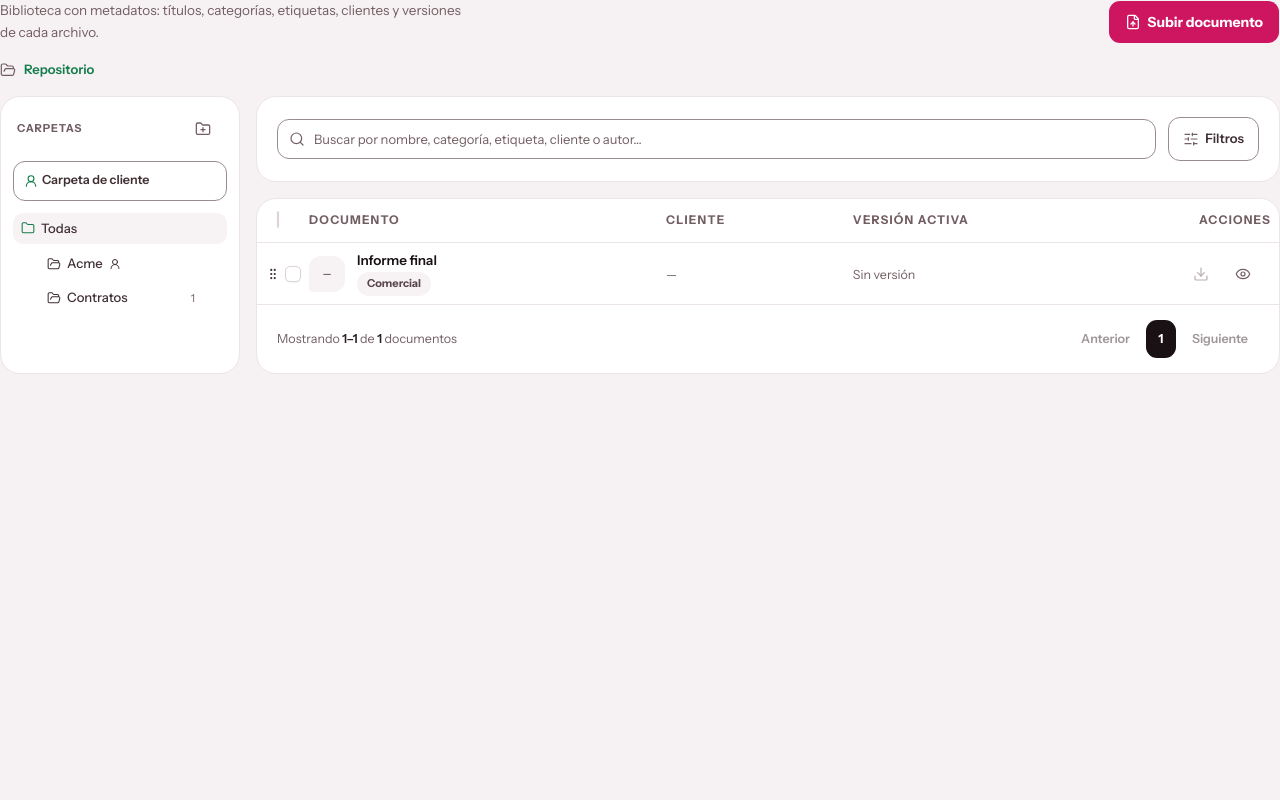
Test case: RepositoryList — folders, client folders and drag and drop (S3–S5) › «Subir documento» with no folder open keeps uploading to «Todas»
Click the button "Subir documento": (1194, 22) x1=1108 y1=0 x2=1279 y2=44
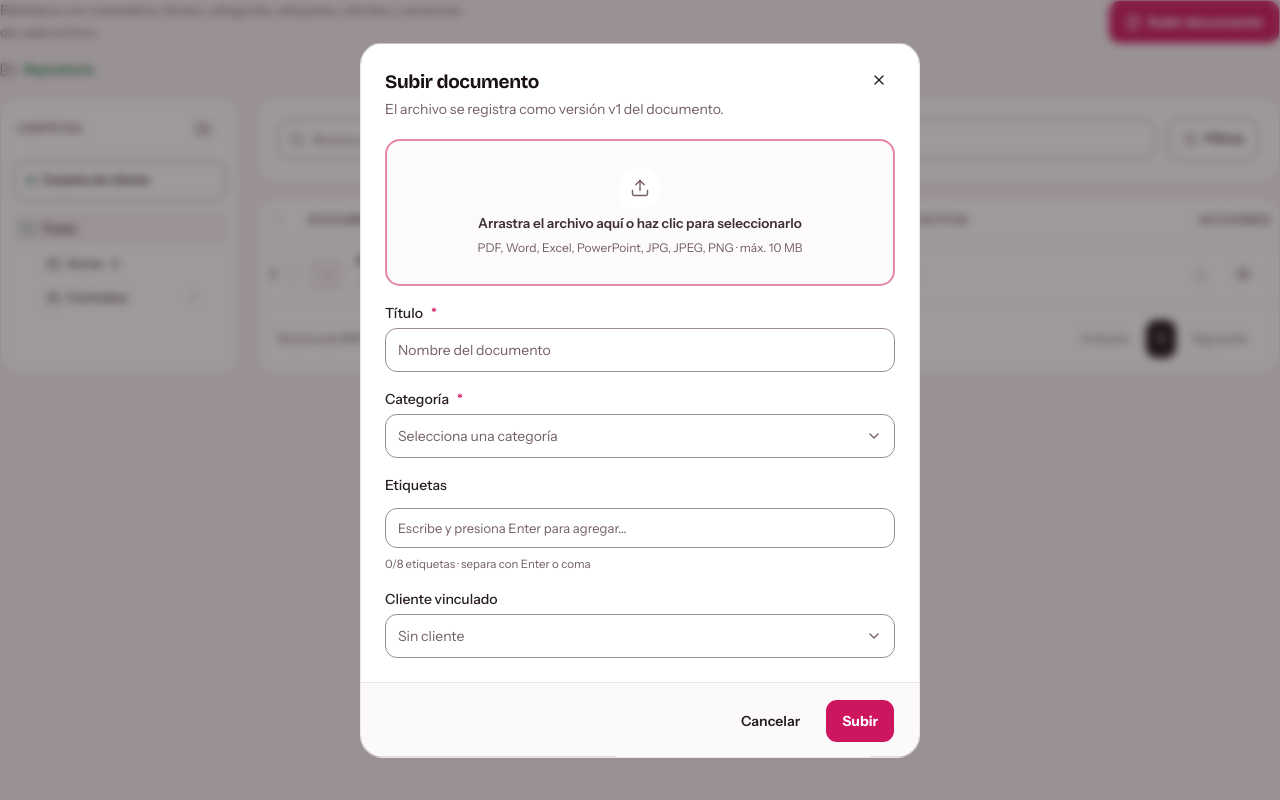
Expected: the heading "Subir documento" is shown, x1=385 y1=70 x2=539 y2=92
